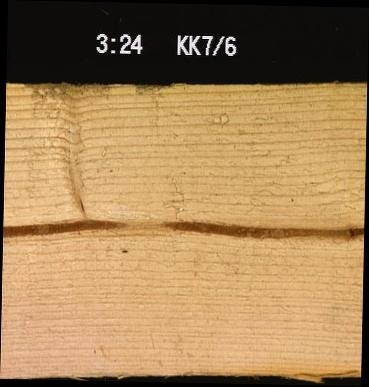wave: (272, 364, 361, 383)
